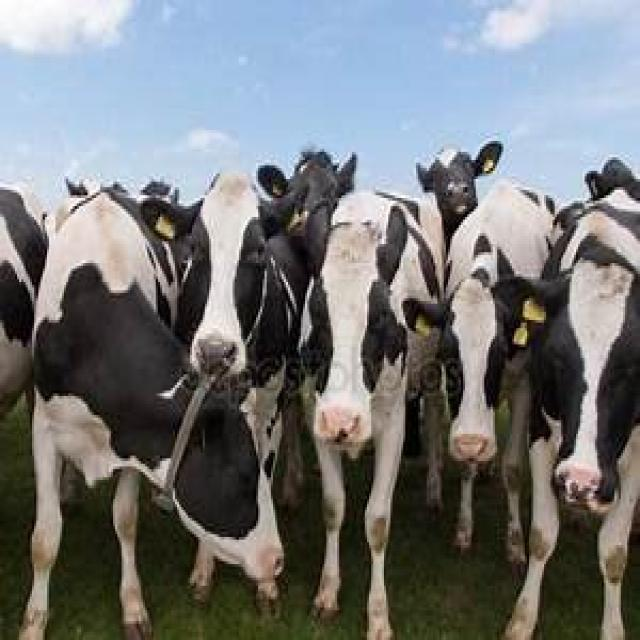cow: (17, 184, 275, 640), (493, 190, 640, 640), (311, 193, 437, 640), (177, 174, 292, 607), (444, 184, 555, 551)
